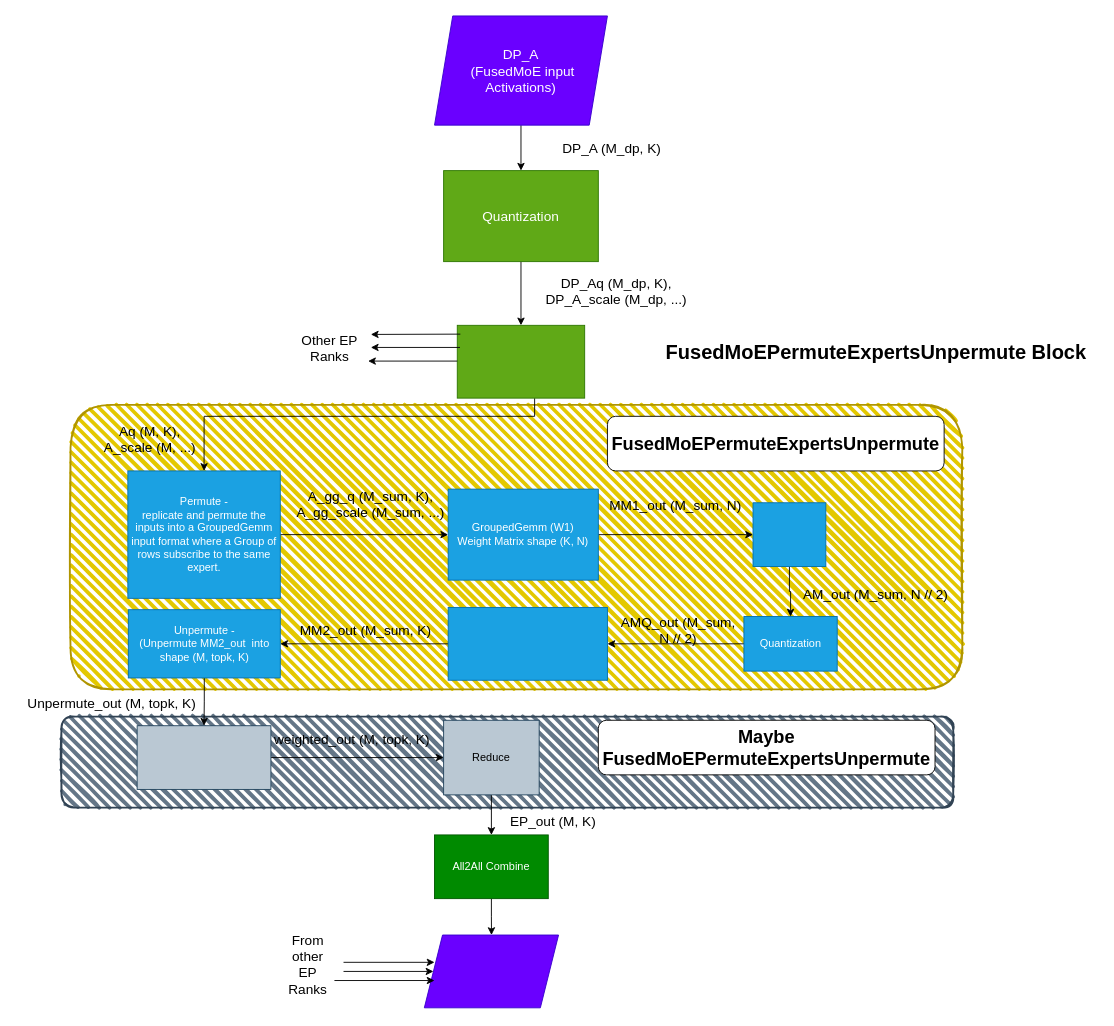
Some shapes in this 1114 by 1026 pixel diagram are drawn without their labels. The shapes that lost their labels are listed below. From the top down, each one's box as (x1, y1, x2, y2) in pixels, then its label:
(456, 324, 585, 398): All2All Dispatch
(752, 502, 826, 566): Act + Mul
(447, 607, 607, 680): GroupedGemm (W2) Weight Matrix shape (N // 2, K)
(136, 725, 271, 789): TopK Weight Application
(423, 934, 559, 1008): DP_out (M_dp, K)
